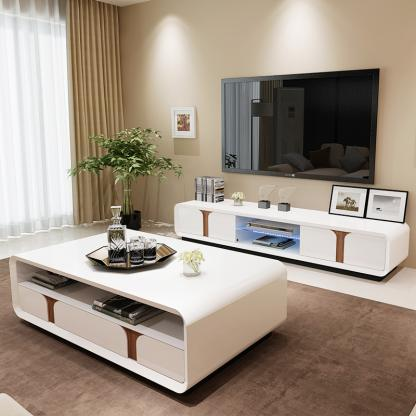Carpet: (198, 291, 416, 416), (0, 306, 184, 416)
Curtains: (66, 0, 125, 226)
TV stand: (174, 200, 411, 280)
